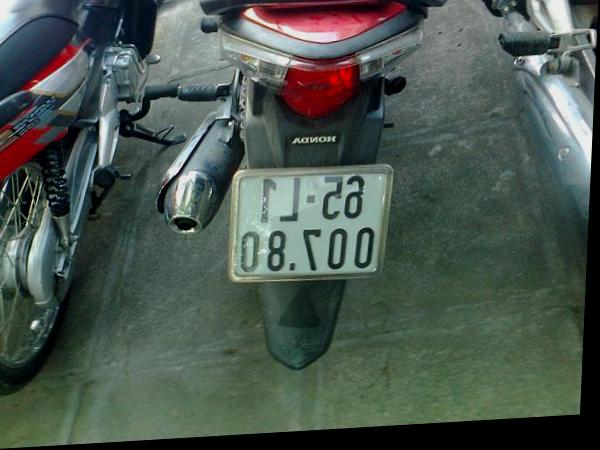License_Plate: (230, 166, 390, 279)
